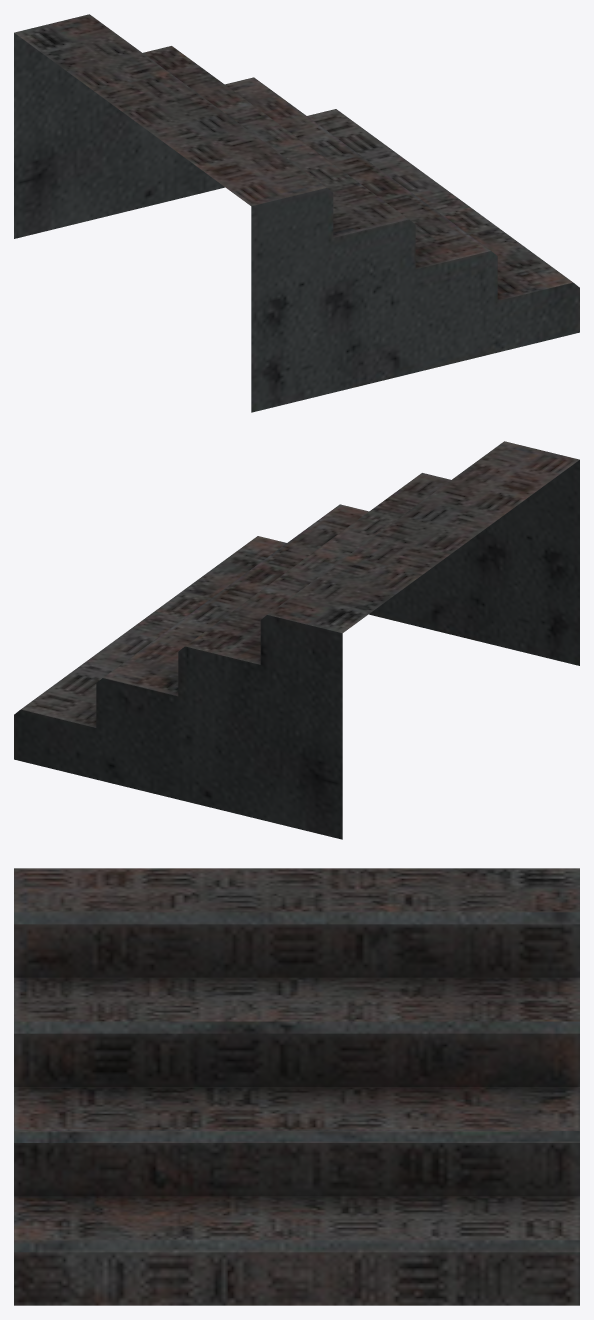
Rendered from Stairs.FBX.
3 views of the same model, one above another, from view 1: azimuth 30°, elevation 25°; view 2: azimuth 150°, elevation 25°; view 3: azimuth 270°, elevation 25° (orthographic). The views are drawn at different scales.
Parts seen in each view (by area): view 1: Stairs; view 2: Stairs; view 3: Stairs.
Part boxes in pixels (bbox=[...]): Stairs: bbox=[14, 14, 579, 412]; Stairs: bbox=[14, 441, 579, 839]; Stairs: bbox=[14, 868, 579, 1305].
Bounding box in the file's own units: 39.37 × 23.62 × 49.21.
